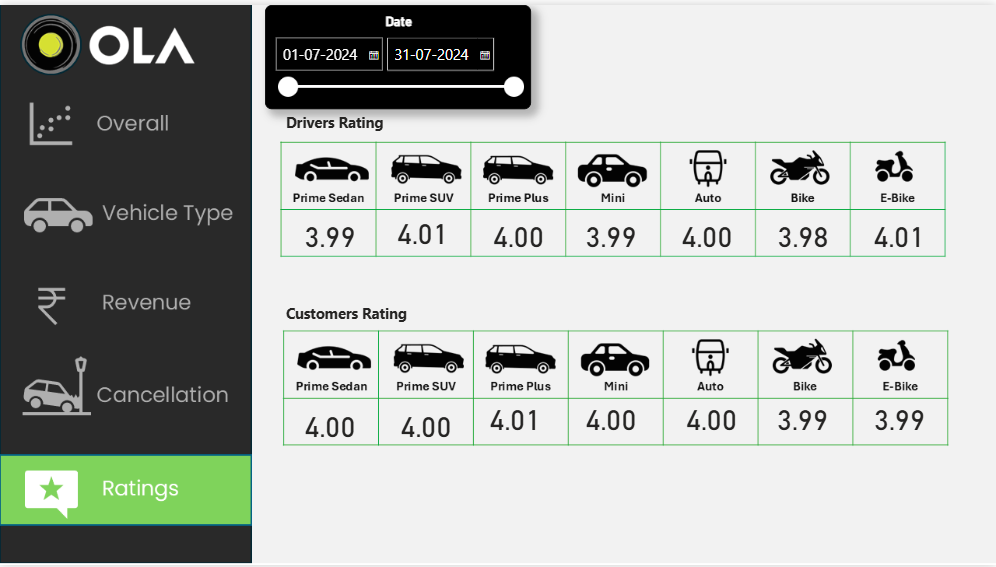

The dashboard page shown, as its layout file describes it:
{"tool":"powerbi","page":{"name":"Rating","canvas":[1280,720],"ordinal":4},"visuals":[{"type":"card","fields":{"Values":["Avg(Bookings.Driver_Ratings)"]},"box":[362.4,268.6,123.4,54],"z":0},{"type":"card","fields":{"Values":["Avg(Bookings.Driver_Ratings)"]},"box":[485.8,259.6,114.4,63],"z":1000},{"type":"card","fields":{"Values":["Avg(Bookings.Driver_Ratings)"]},"box":[609.2,268.6,114.4,54],"z":2000},{"type":"card","fields":{"Values":["Avg(Bookings.Driver_Ratings)"]},"box":[723.5,268.6,123.4,54],"z":3000},{"type":"card","fields":{"Values":["Avg(Bookings.Driver_Ratings)"]},"box":[846.9,268.6,123.4,54],"z":4000},{"type":"card","fields":{"Values":["Avg(Bookings.Driver_Ratings)"]},"box":[970.3,268.6,123.4,54],"z":5000},{"type":"card","fields":{"Values":["Avg(Bookings.Driver_Ratings)"]},"box":[1093.7,268.6,123.4,54],"z":6000},{"type":"textbox","box":[362.4,133.7,159.4,41.1],"z":7000},{"type":"card","fields":{"Values":["Avg(Bookings.Customer_Rating)"]},"box":[362.4,512.8,123.4,54],"z":8000},{"type":"card","fields":{"Values":["Avg(Bookings.Customer_Rating)"]},"box":[485.8,512.8,123.4,54],"z":9000},{"type":"card","fields":{"Values":["Avg(Bookings.Customer_Rating)"]},"box":[600.2,503.8,123.4,54],"z":10000},{"type":"card","fields":{"Values":["Avg(Bookings.Customer_Rating)"]},"box":[723.5,503.8,123.4,54],"z":11000},{"type":"card","fields":{"Values":["Avg(Bookings.Customer_Rating)"]},"box":[846.9,503.8,134.9,54],"z":12000},{"type":"card","fields":{"Values":["Avg(Bookings.Customer_Rating)"]},"box":[970.3,503.8,122.1,54],"z":13000},{"type":"card","fields":{"Values":["Avg(Bookings.Customer_Rating)"]},"box":[1094.9,503.8,122.1,54],"z":14000},{"type":"textbox","box":[362.4,379.1,208.2,41.1],"z":15000},{"type":"slicer","title":"Date","fields":{"Values":["Bookings.Date"]},"box":[340.6,0,341.8,133.7],"z":16000},{"type":"actionButton","box":[0,223.6,322.6,79.7],"z":17000},{"type":"actionButton","box":[0,114.4,322.6,79.7],"z":18000},{"type":"actionButton","box":[0,341.8,322.6,86.1],"z":19000},{"type":"actionButton","box":[0,448.5,322.6,86.1],"z":20000},{"type":"actionButton","box":[10,124.4,322.6,79.7],"z":21000},{"type":"actionButton","box":[0,108,322.6,86.1],"z":22000}]}

Visuals, with their boxes on the page's 1280x720 design canvas (x1, y1, x2, y2). These are canvas units, not pixel positions in the 996x567 screenshot, which may show the page scaled, cropped or inside an application window:
card - Avg(Bookings.Driver_Ratings): 362,269,486,323
card - Avg(Bookings.Driver_Ratings): 486,260,600,323
card - Avg(Bookings.Driver_Ratings): 609,269,724,323
card - Avg(Bookings.Driver_Ratings): 724,269,847,323
card - Avg(Bookings.Driver_Ratings): 847,269,970,323
card - Avg(Bookings.Driver_Ratings): 970,269,1094,323
card - Avg(Bookings.Driver_Ratings): 1094,269,1217,323
textbox: 362,134,522,175
card - Avg(Bookings.Customer_Rating): 362,513,486,567
card - Avg(Bookings.Customer_Rating): 486,513,609,567
card - Avg(Bookings.Customer_Rating): 600,504,724,558
card - Avg(Bookings.Customer_Rating): 724,504,847,558
card - Avg(Bookings.Customer_Rating): 847,504,982,558
card - Avg(Bookings.Customer_Rating): 970,504,1092,558
card - Avg(Bookings.Customer_Rating): 1095,504,1217,558
textbox: 362,379,571,420
"Date" slicer: 341,0,682,134
actionButton: 0,224,323,303
actionButton: 0,114,323,194
actionButton: 0,342,323,428
actionButton: 0,448,323,535
actionButton: 10,124,333,204
actionButton: 0,108,323,194
